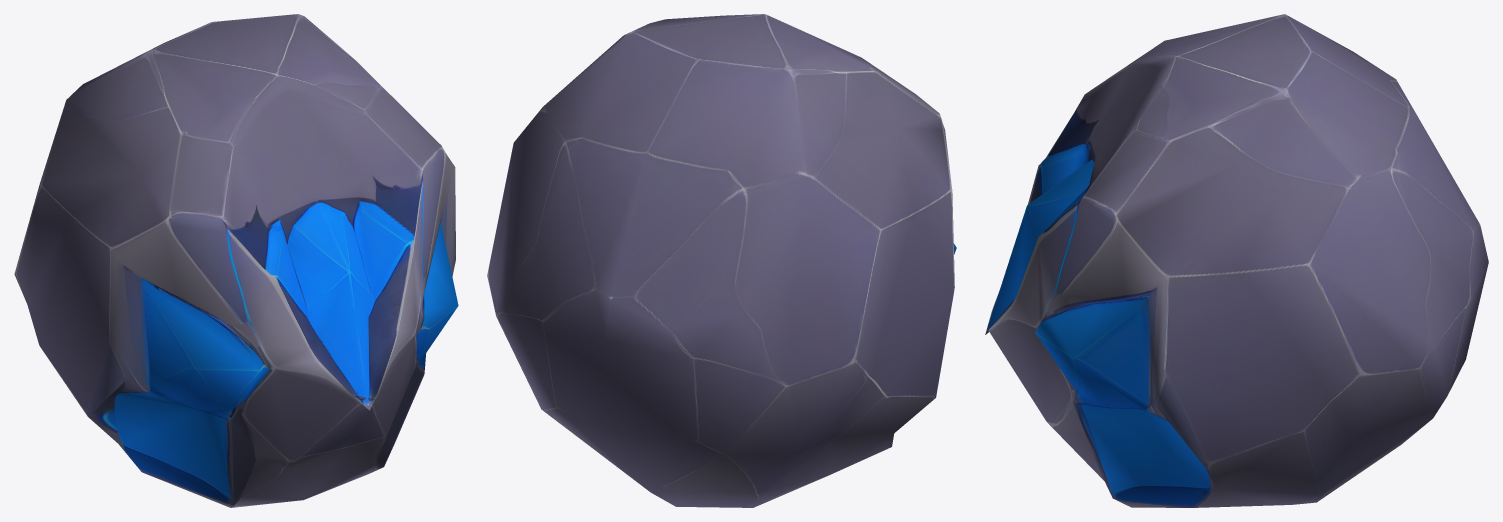
File: creep_siege_projectile.glb
The picture shows the model from 3 angles, left to right: view 1: azimuth 30°, elevation 25°; view 2: azimuth 150°, elevation 25°; view 3: azimuth 270°, elevation 25°; orthographic projection. The views are drawn at different scales.
Parts seen in each view (by area): view 1: tripo_node_0d95400a-ef8c-4737-bdfc-197de1603db3; view 2: tripo_node_0d95400a-ef8c-4737-bdfc-197de1603db3; view 3: tripo_node_0d95400a-ef8c-4737-bdfc-197de1603db3.
Boxes of the visible parts, bbox=[...] form: tripo_node_0d95400a-ef8c-4737-bdfc-197de1603db3: bbox=[14, 14, 458, 507]; tripo_node_0d95400a-ef8c-4737-bdfc-197de1603db3: bbox=[487, 14, 956, 507]; tripo_node_0d95400a-ef8c-4737-bdfc-197de1603db3: bbox=[985, 14, 1488, 507].
Bounding box in the file's own units: 0.8477 × 0.9947 × 1.01.
Materials: 1 (1 with a texture image).
